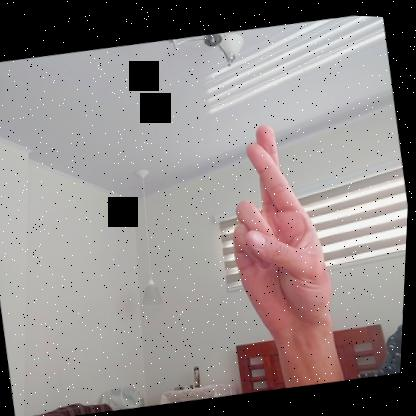R: (209, 110, 347, 342)
